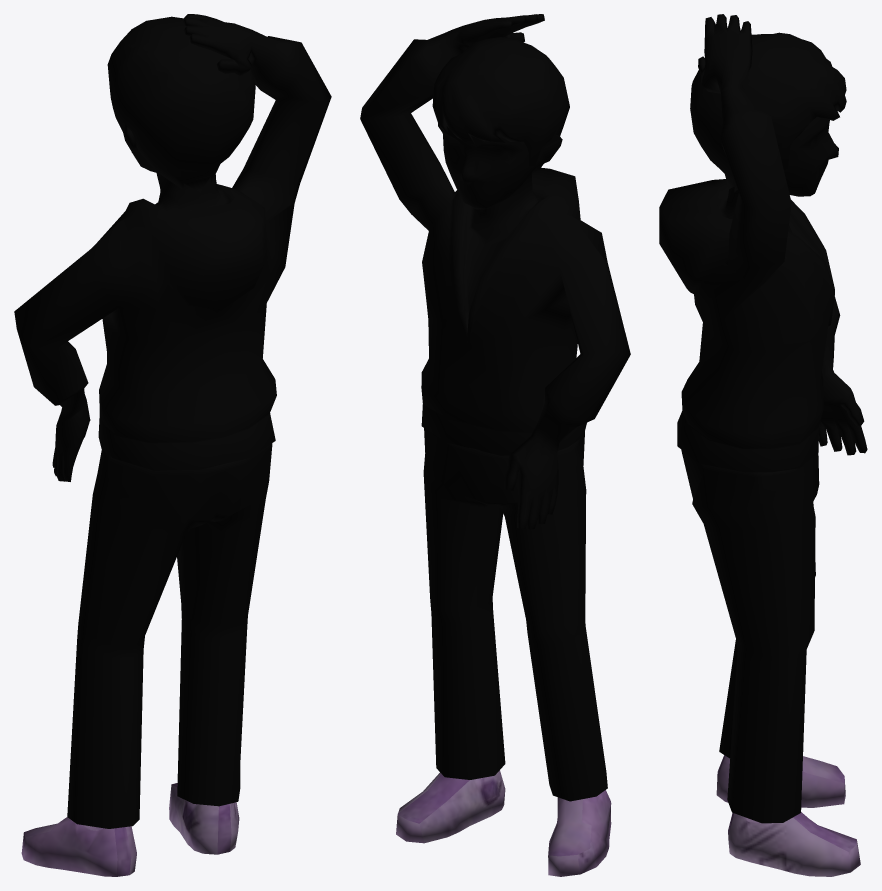
The model's file is entity53788.gltf.
3 views of the same model, side by side, from view 1: azimuth 30°, elevation 25°; view 2: azimuth 150°, elevation 25°; view 3: azimuth 270°, elevation 25° (orthographic). The views are drawn at different scales.
Visible parts, largest first — view 1: node_Statue_greek_02; view 2: node_Statue_greek_02; view 3: node_Statue_greek_02.
Part boxes in pixels (left/top/right/bottom): node_Statue_greek_02: left=14, top=14, right=331, bottom=876; node_Statue_greek_02: left=360, top=14, right=630, bottom=876; node_Statue_greek_02: left=659, top=14, right=867, bottom=876.
Size of what is drawn, in the model's own units: 0.7261 by 2 by 0.4548.
